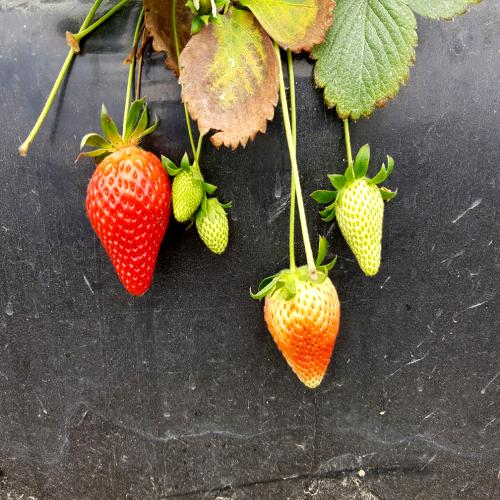partially-ripe: (261, 266, 345, 398)
ripe: (80, 139, 175, 306)
unripe: (332, 170, 391, 288)
